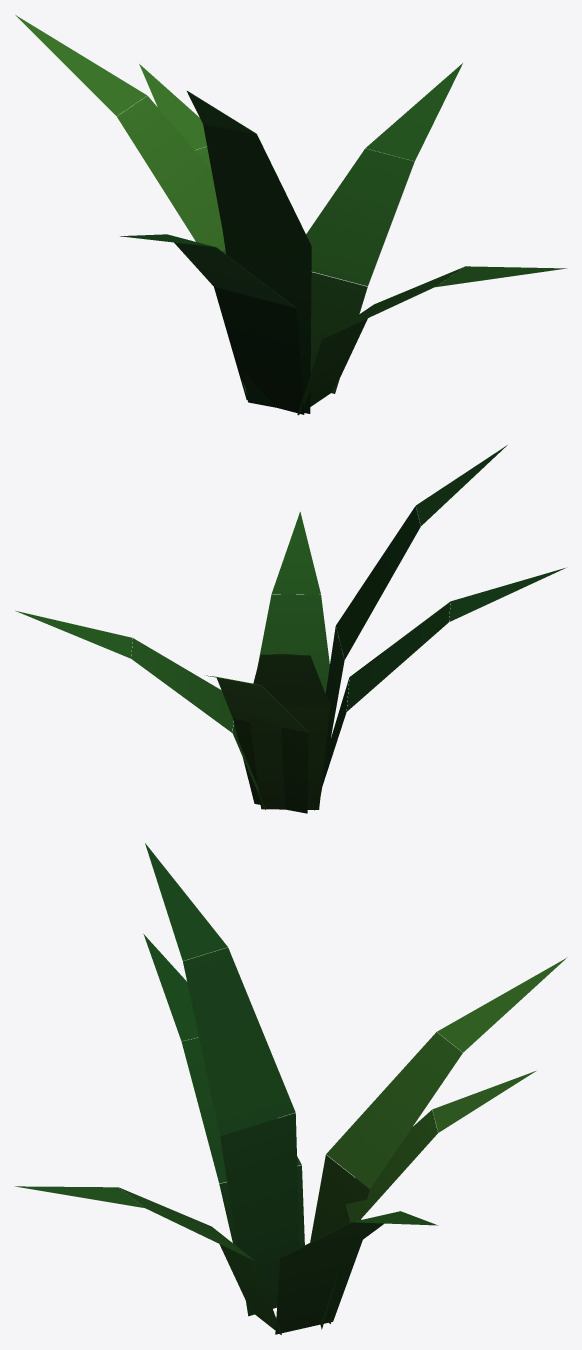
The model's file is bloom_grass.fbx.
The picture shows the model from 3 angles, top to bottom: view 1: azimuth 30°, elevation 25°; view 2: azimuth 150°, elevation 25°; view 3: azimuth 270°, elevation 25°; orthographic projection. The views are drawn at different scales.
Visible parts, largest first — view 1: Bloom_Grass; view 2: Bloom_Grass; view 3: Bloom_Grass.
Part boxes in pixels (x1,y1,x2,y2): Bloom_Grass: (15,15,566,415); Bloom_Grass: (15,445,565,813); Bloom_Grass: (15,843,567,1334).
Size of the model in its own units: 0.2601 by 0.2024 by 0.2601.
